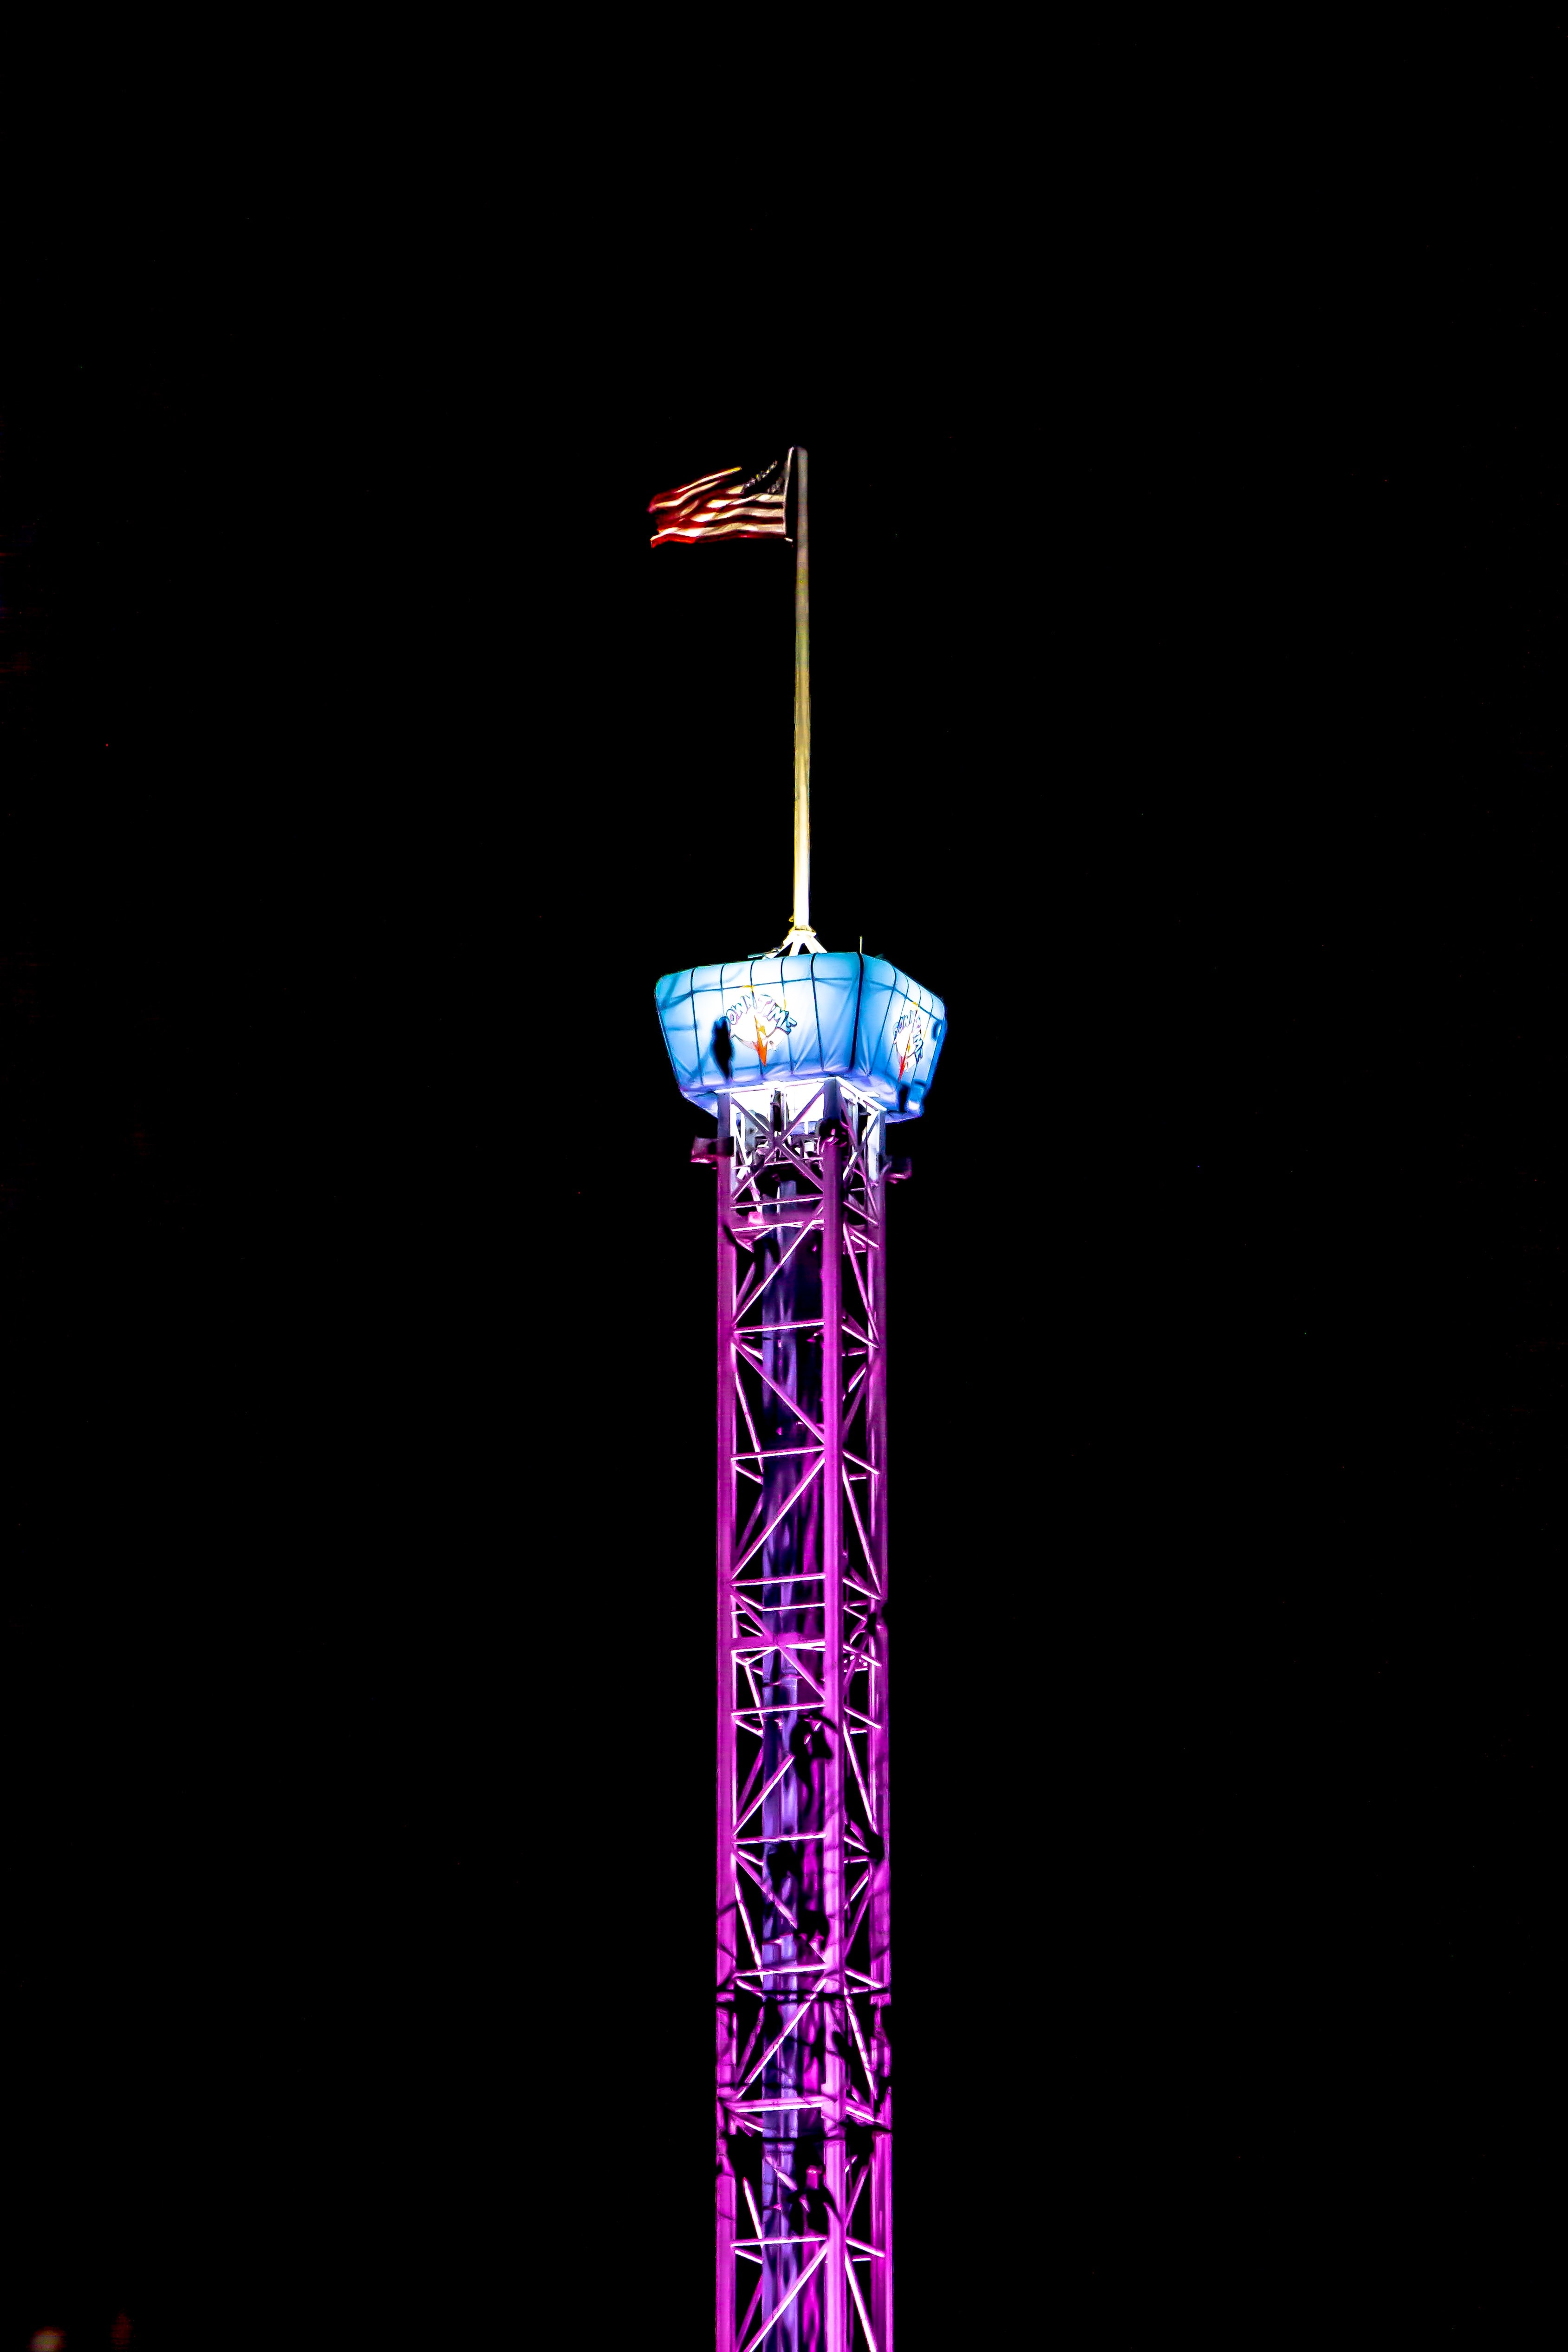Flag: (632, 450, 805, 560)
